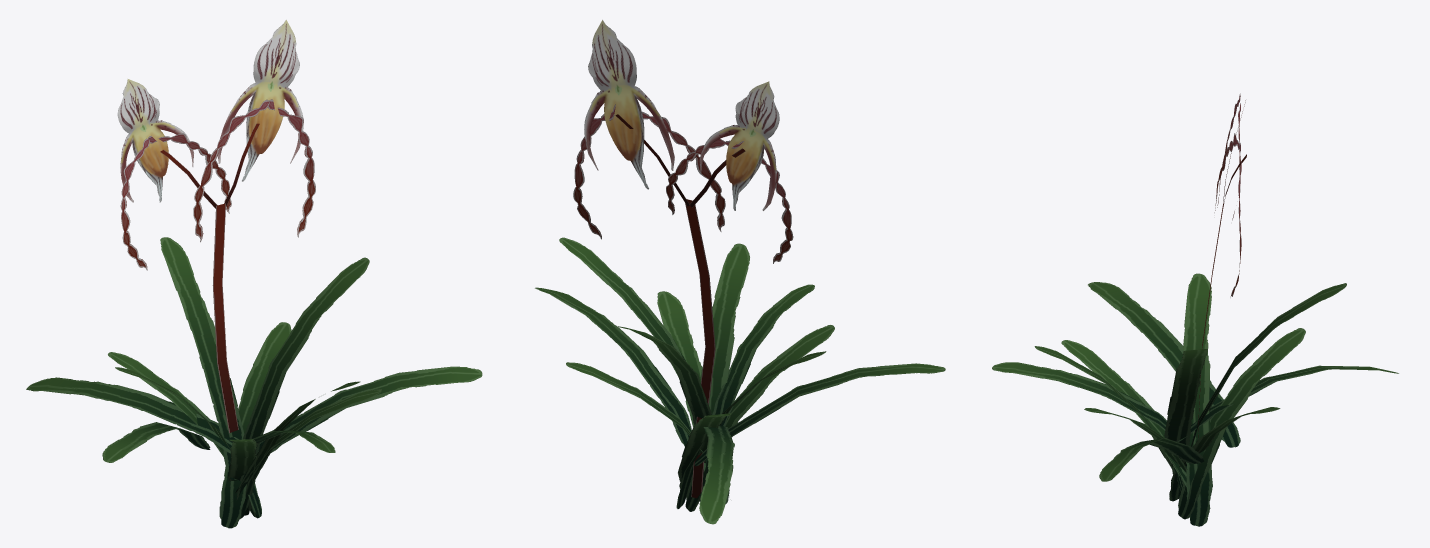
File: paphiopedilumPhilippinenseFlower_A.fbx
3 renders of one model, left to right at view 1: azimuth 30°, elevation 25°; view 2: azimuth 150°, elevation 25°; view 3: azimuth 270°, elevation 25°, orthographic. The views are drawn at different scales.
Visible parts, largest first — view 1: paphiopedilumPhilippinese_A_geo; view 2: paphiopedilumPhilippinese_A_geo; view 3: paphiopedilumPhilippinese_A_geo.
Boxes of the visible parts, x1,y1,x2,y2 form: paphiopedilumPhilippinese_A_geo: (26, 20, 482, 528); paphiopedilumPhilippinese_A_geo: (535, 20, 945, 524); paphiopedilumPhilippinese_A_geo: (992, 93, 1398, 526).
Size of the model in its own units: 58.6 by 65.8 by 52.85.
